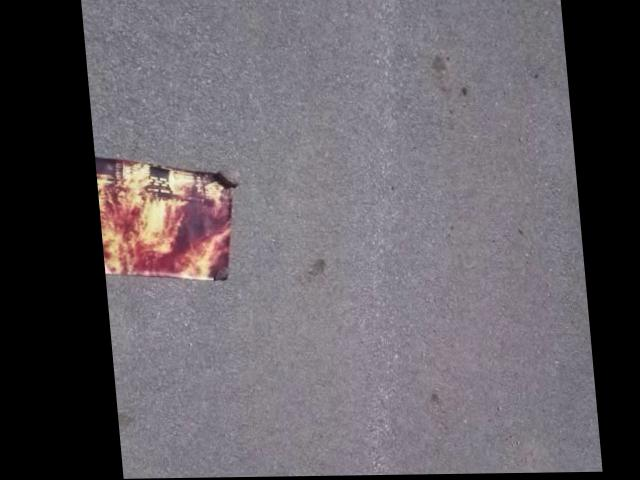fire-poster: (92, 152, 245, 286)
